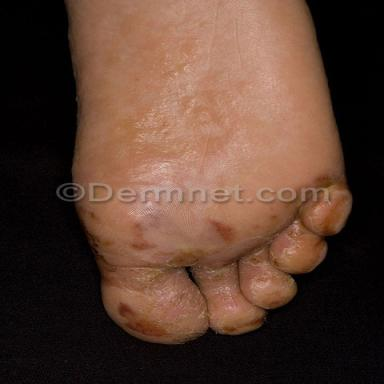eczema: (97, 175, 351, 343)
